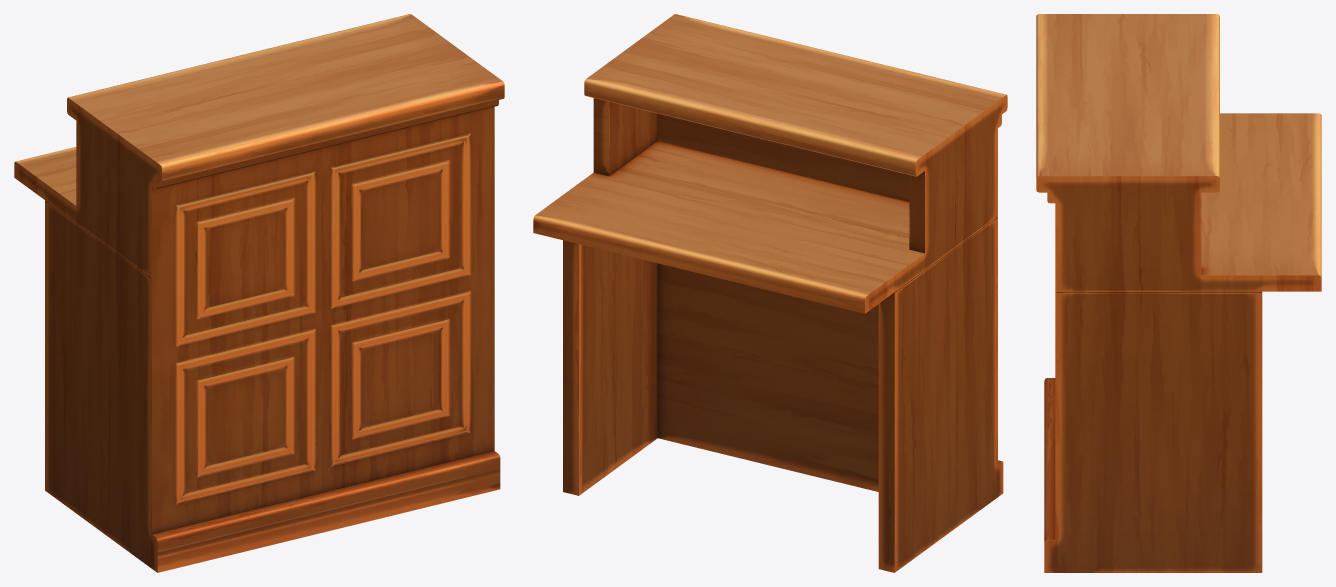
File: OfficeReception01_3.FBX
The picture shows the model from 3 angles, left to right: view 1: azimuth 30°, elevation 25°; view 2: azimuth 150°, elevation 25°; view 3: azimuth 270°, elevation 25°; orthographic projection. The views are drawn at different scales.
Visible parts, largest first — view 1: OfficeReception01_3; view 2: OfficeReception01_3; view 3: OfficeReception01_3.
Boxes of the visible parts, left/top/right/bottom form: OfficeReception01_3: left=14, top=14, right=504, bottom=572; OfficeReception01_3: left=533, top=14, right=1007, bottom=572; OfficeReception01_3: left=1036, top=14, right=1321, bottom=572.
Size of what is drawn, in the model's own units: 1.05 by 1.2 by 0.7825.
